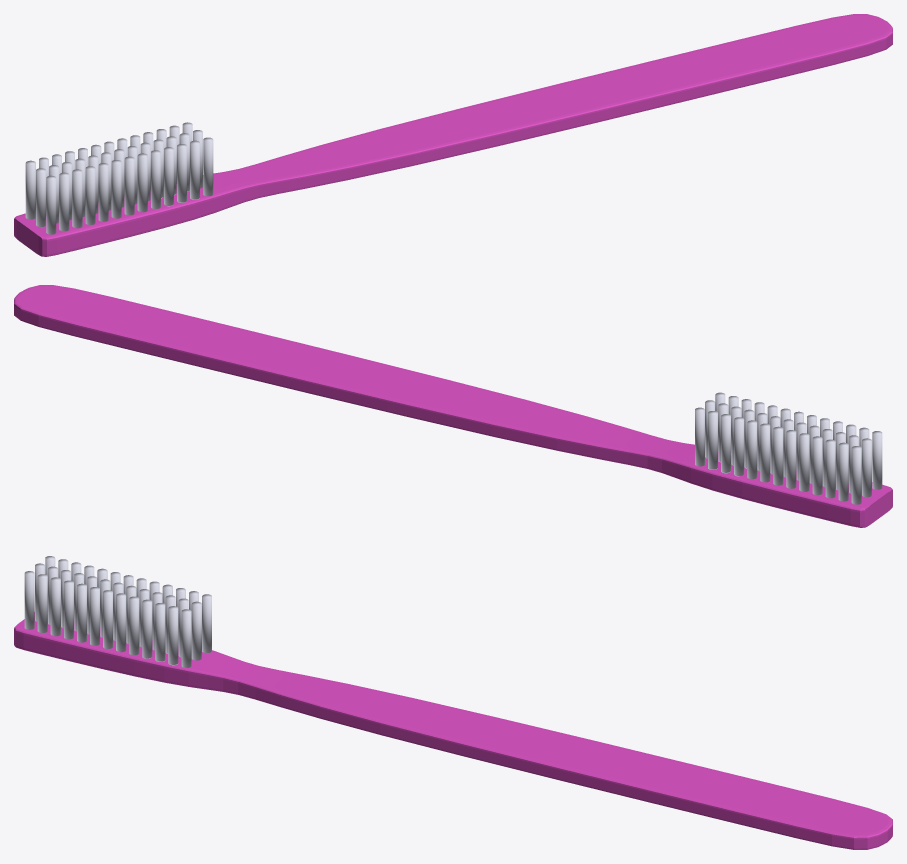
File: Cepillo2.fbx
The picture shows the model from 3 angles, top to bottom: view 1: azimuth 30°, elevation 25°; view 2: azimuth 150°, elevation 25°; view 3: azimuth 330°, elevation 25°; orthographic projection.
Visible parts, largest first — view 1: Cube.001, Cylinder.064, Cylinder.077, Cylinder.103; view 2: Cube.001, Cylinder.103, Cylinder.077, Cylinder.064; view 3: Cube.001, Cylinder.064, Cylinder.077, Cylinder.103.
Part boxes in pixels (left/top/right/bottom): Cube.001: left=14, top=14, right=892, bottom=256; Cylinder.064: left=46, top=137, right=213, bottom=234; Cylinder.077: left=36, top=130, right=202, bottom=226; Cylinder.103: left=25, top=122, right=192, bottom=219; Cube.001: left=14, top=285, right=892, bottom=527; Cylinder.103: left=695, top=407, right=861, bottom=504; Cylinder.077: left=705, top=400, right=871, bottom=497; Cylinder.064: left=715, top=392, right=882, bottom=489; Cube.001: left=14, top=612, right=892, bottom=849; Cylinder.064: left=24, top=571, right=191, bottom=667; Cylinder.077: left=35, top=563, right=201, bottom=660; Cylinder.103: left=45, top=556, right=211, bottom=652.
Bounding box in the file's own units: 2629 × 216 × 200.
